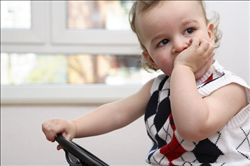face: (144, 6, 212, 80)
